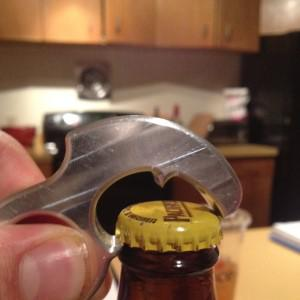beer: (116, 202, 219, 300)
